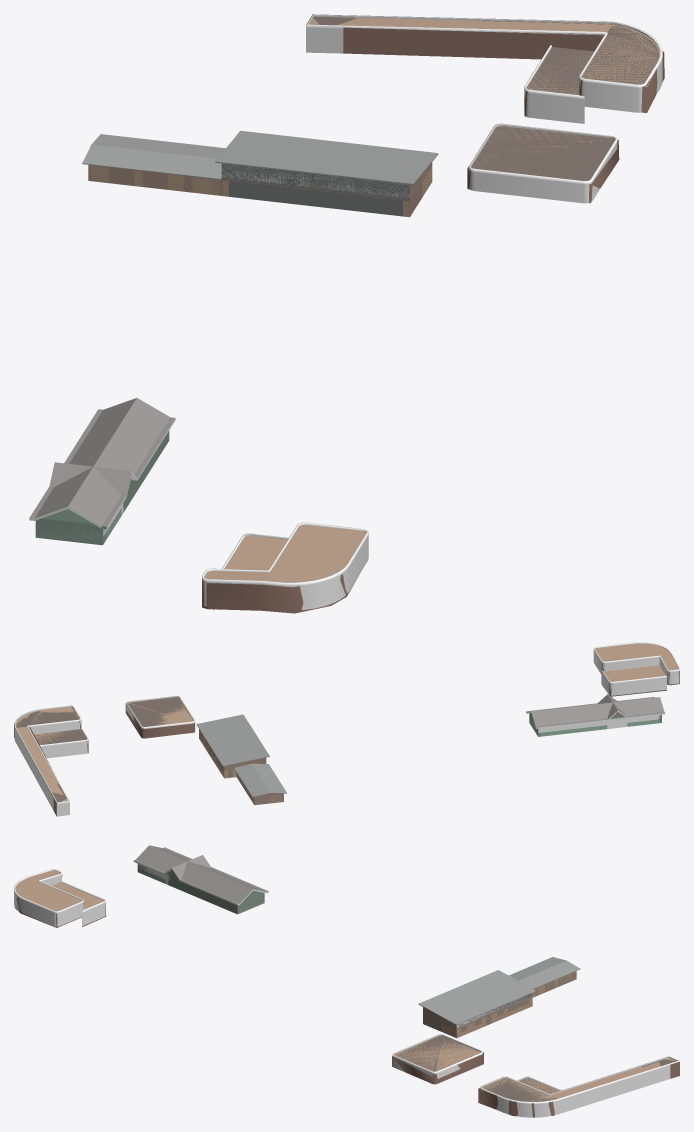
The model's file is sports_complex.dae.
3 views of the same model, one above another, from view 1: azimuth 30°, elevation 25°; view 2: azimuth 150°, elevation 25°; view 3: azimuth 270°, elevation 25° (orthographic). The views are drawn at different scales.
Visible parts, largest first — view 1: sports_complex_a1000, sports_complex_a3000; view 2: sports_complex_a1000, sports_complex_a3000; view 3: sports_complex_a1000, sports_complex_a3000.
Part boxes in pixels (x1,y1,x2,y2): sports_complex_a1000: [29, 16, 664, 613]; sports_complex_a3000: [29, 14, 662, 609]; sports_complex_a1000: [14, 664, 679, 815]; sports_complex_a3000: [14, 642, 679, 816]; sports_complex_a1000: [14, 845, 679, 1117]; sports_complex_a3000: [14, 861, 679, 1117].
Size of the model in its own units: 127 by 139 by 8.18.
